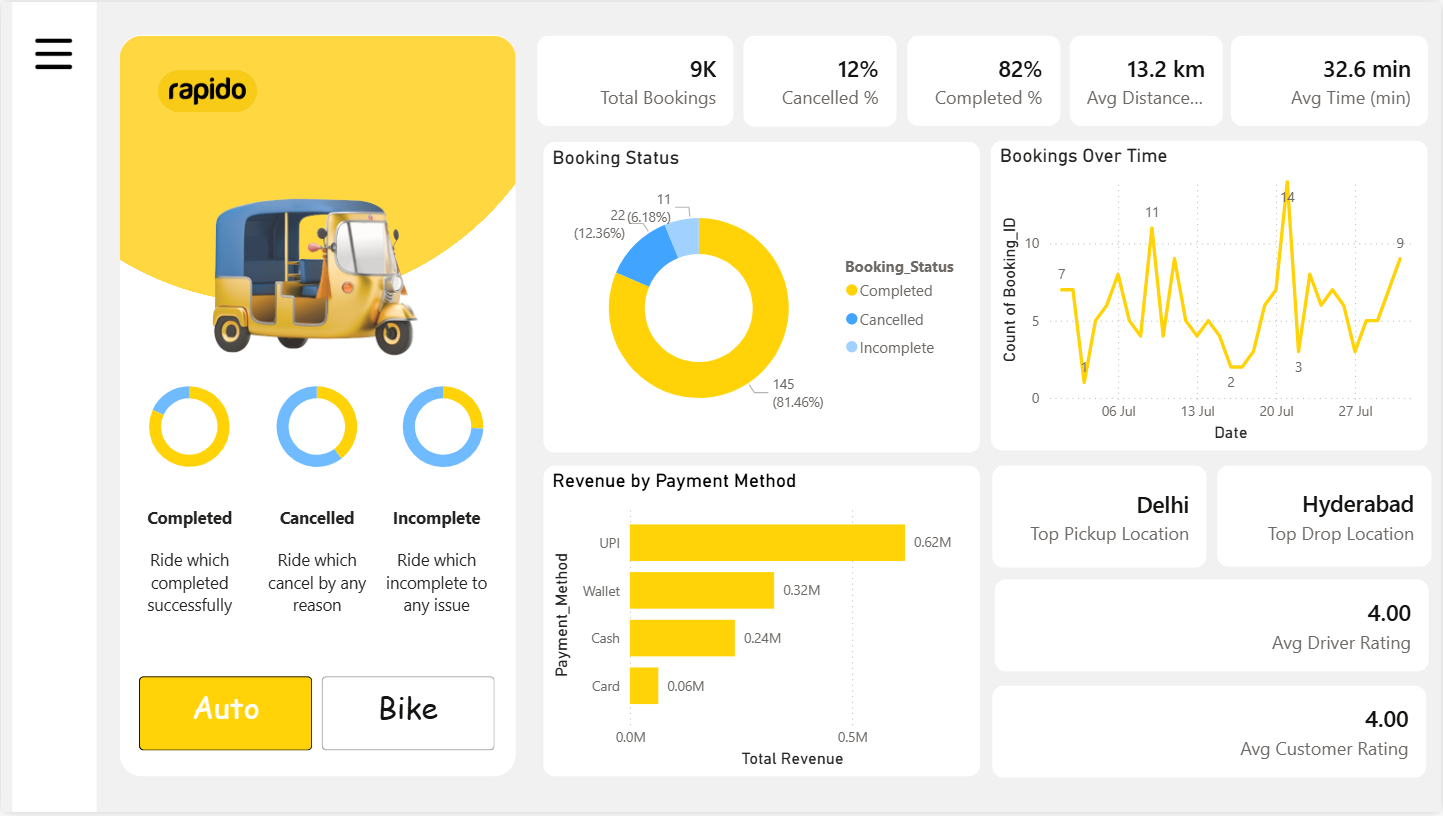

The page's visual inventory and layout, read from the dashboard file:
{"tool":"powerbi","page":{"name":"Overview","canvas":[1280,720],"ordinal":1},"visuals":[{"type":"shape","box":[105.3,28.9,352,659.3],"z":0},{"type":"image","box":[105,30.3,352.4,658.5],"z":1000},{"type":"shape","box":[10.1,0,75,719.9],"z":2000},{"type":"cardVisual","fields":{"Data":["Measure.Total Bookings"]},"box":[477,30.3,174.4,80.1],"z":3000},{"type":"cardVisual","fields":{"Data":["Measure.Cancelled %"]},"box":[660,30,135.6,80.8],"z":4000},{"type":"cardVisual","fields":{"Data":["Measure.Completed %"]},"box":[805,30,135.6,80],"z":5000},{"type":"image","box":[105.3,30.3,155.8,98.1],"z":6000},{"type":"cardVisual","fields":{"Data":["Measure.Avg Distance"]},"box":[950,30,135.6,80],"z":7000},{"type":"cardVisual","fields":{"Data":["Measure.Avg Time"]},"box":[1093.6,30,175,80],"z":8000},{"type":"advancedSlicerVisual","fields":{"Values":["Rapido.Vehicle_Type"]},"box":[118.3,594.4,326.1,76.5],"z":9000},{"type":"image","box":[156.9,118.5,249.4,241.1],"z":10000},{"type":"donutChart","fields":{"Y":["Measure.Completed","Measure.Completed Remaining"]},"box":[117.5,327.5,99.7,99.7],"z":11000},{"type":"donutChart","fields":{"Y":["Measure.Incomplete","Measure.Incompleted Remaining"]},"box":[343.5,327.5,99.7,99.7],"z":12000},{"type":"donutChart","fields":{"Y":["Measure.Cancelled","Measure.Cancelled Remaining"]},"box":[231.4,327.5,99.7,99.7],"z":13000},{"type":"textbox","box":[117.5,443.2,99.7,144.2],"z":14000},{"type":"textbox","box":[231.4,443.2,99.7,151.3],"z":15000},{"type":"textbox","box":[331,443.2,112.1,144.2],"z":16000},{"type":"donutChart","title":"Booking Status","fields":{"Category":["Rapido.Booking_Status"],"Y":["CountNonNull(Rapido.Booking_ID)"]},"box":[482,124,388,276],"z":17000},{"type":"clusteredBarChart","title":"Revenue by Payment Method","fields":{"Category":["Rapido.Payment_Method"],"Y":["Measure.Total Revenue"]},"box":[482,412,388,276],"z":18000},{"type":"lineChart","title":"Bookings Over Time","fields":{"Category":["Rapido.Date.Variation.Date Hierarchy.Year"],"Y":["CountNonNull(Rapido.Booking_ID)"]},"box":[880.3,123.7,387.6,275.4],"z":19000},{"type":"cardVisual","fields":{"Data":["Measure.Top Drop Location"]},"box":[1080.6,412.3,190,89.4],"z":20000},{"type":"cardVisual","fields":{"Data":["Measure.Top Pickup Location"]},"box":[881.5,412.3,190,90],"z":21000},{"type":"cardVisual","fields":{"Data":["Measure.Avg Driver Rating"]},"box":[883.5,513.9,385.9,81.2],"z":22000},{"type":"cardVisual","fields":{"Data":["Measure.Avg Customer Rating"]},"box":[881.5,607.3,385.9,81.2],"z":23000},{"type":"image","box":[20.2,24.5,53.4,43.3],"z":23001}]}

Visuals, with their boxes in screenshot pixels (x1, y1, x2, y2), scaled from the page's 1280x720 canvas onto the 1443x816 screenshot:
shape: x1=119 y1=33 x2=516 y2=780
image: x1=118 y1=34 x2=516 y2=781
shape: x1=11 y1=0 x2=96 y2=815
cardVisual - Measure.Total Bookings: x1=538 y1=34 x2=734 y2=125
cardVisual - Measure.Cancelled %: x1=744 y1=34 x2=897 y2=126
cardVisual - Measure.Completed %: x1=908 y1=34 x2=1060 y2=125
image: x1=119 y1=34 x2=294 y2=146
cardVisual - Measure.Avg Distance: x1=1071 y1=34 x2=1224 y2=125
cardVisual - Measure.Avg Time: x1=1233 y1=34 x2=1430 y2=125
advancedSlicerVisual - Rapido.Vehicle_Type: x1=133 y1=674 x2=501 y2=760
image: x1=177 y1=134 x2=458 y2=408
donutChart - Measure.Completed x Measure.Completed Remaining: x1=132 y1=371 x2=245 y2=484
donutChart - Measure.Incomplete x Measure.Incompleted Remaining: x1=387 y1=371 x2=500 y2=484
donutChart - Measure.Cancelled x Measure.Cancelled Remaining: x1=261 y1=371 x2=373 y2=484
textbox: x1=132 y1=502 x2=245 y2=666
textbox: x1=261 y1=502 x2=373 y2=674
textbox: x1=373 y1=502 x2=500 y2=666
"Booking Status" donutChart: x1=543 y1=141 x2=981 y2=453
"Revenue by Payment Method" clusteredBarChart: x1=543 y1=467 x2=981 y2=780
"Bookings Over Time" lineChart: x1=992 y1=140 x2=1429 y2=452
cardVisual - Measure.Top Drop Location: x1=1218 y1=467 x2=1432 y2=569
cardVisual - Measure.Top Pickup Location: x1=994 y1=467 x2=1208 y2=569
cardVisual - Measure.Avg Driver Rating: x1=996 y1=582 x2=1431 y2=674
cardVisual - Measure.Avg Customer Rating: x1=994 y1=688 x2=1429 y2=780
image: x1=23 y1=28 x2=83 y2=77
